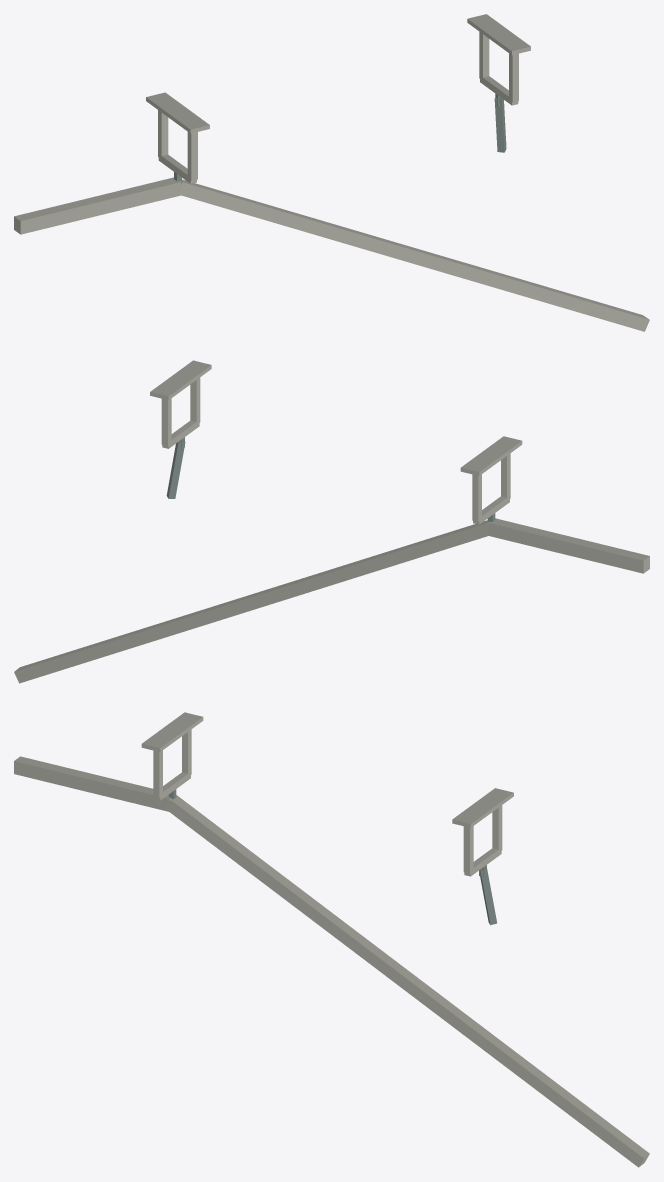
The model's file is SM_CatenariaLosa_v2_Colgando_LOD0.fbx.
The picture shows the model from 3 angles, top to bottom: view 1: azimuth 30°, elevation 25°; view 2: azimuth 150°, elevation 25°; view 3: azimuth 330°, elevation 25°; orthographic projection. The views are drawn at different scales.
Visible parts, largest first — view 1: SM_catenaria_losa_v2_LOD0; view 2: SM_catenaria_losa_v2_LOD0; view 3: SM_catenaria_losa_v2_LOD0.
Part boxes in pixels (bbox=[...]): SM_catenaria_losa_v2_LOD0: bbox=[14, 14, 649, 331]; SM_catenaria_losa_v2_LOD0: bbox=[14, 360, 649, 683]; SM_catenaria_losa_v2_LOD0: bbox=[14, 712, 649, 1167].
Bounding box in the file's own units: 9.97 × 5.09 × 1.2.
